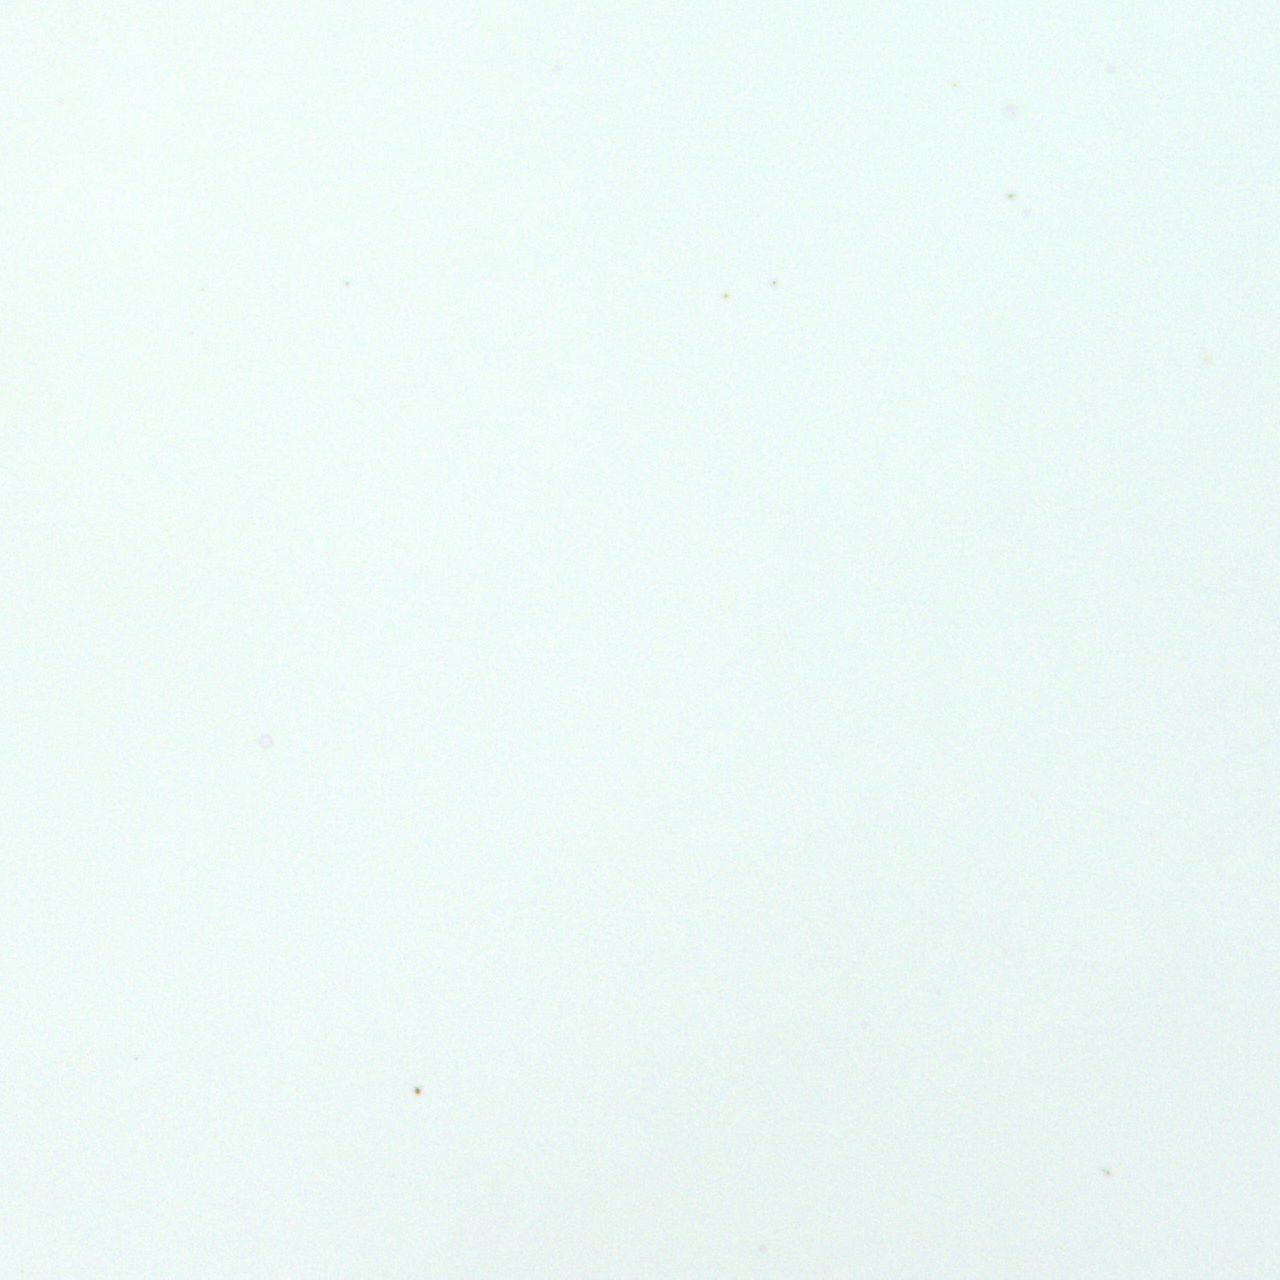dust: (410, 1084, 426, 1096)
